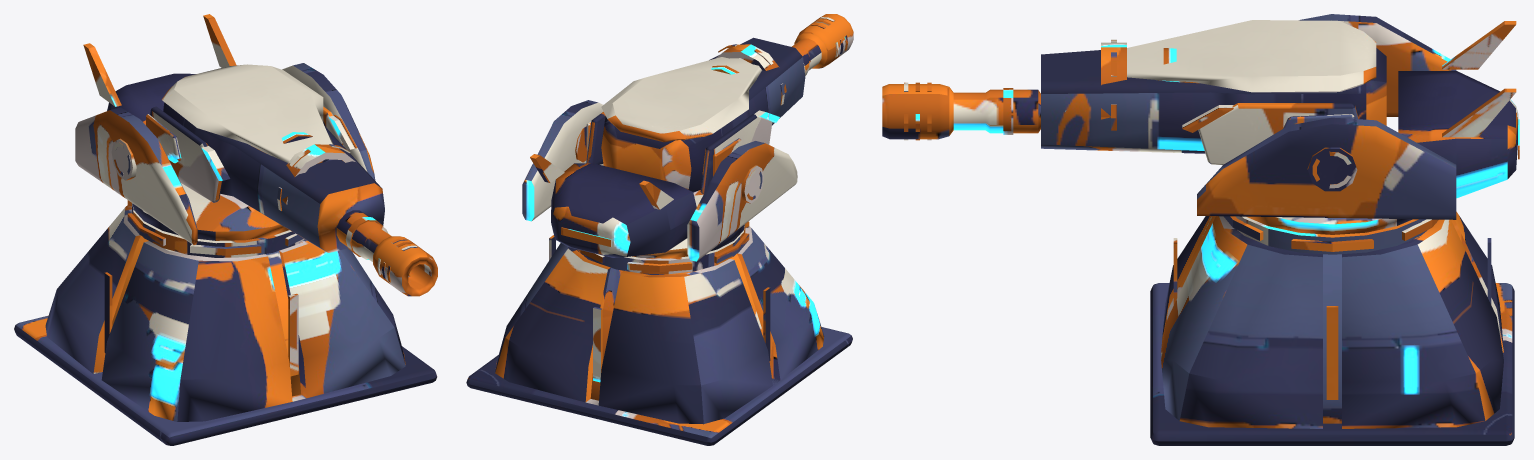
File: R4W_Basic_LOD1.fbx
3 renders of one model, left to right at view 1: azimuth 30°, elevation 25°; view 2: azimuth 150°, elevation 25°; view 3: azimuth 270°, elevation 25°, orthographic. The views are drawn at different scales.
Visible parts, largest first — view 1: R4W_Basic_LOD1; view 2: R4W_Basic_LOD1; view 3: R4W_Basic_LOD1.
Part boxes in pixels (x1,y1,x2,y2): R4W_Basic_LOD1: [14, 14, 437, 445]; R4W_Basic_LOD1: [466, 14, 853, 445]; R4W_Basic_LOD1: [882, 14, 1519, 445].
Size of the model in its own units: 0.5 by 0.4936 by 0.8748.
